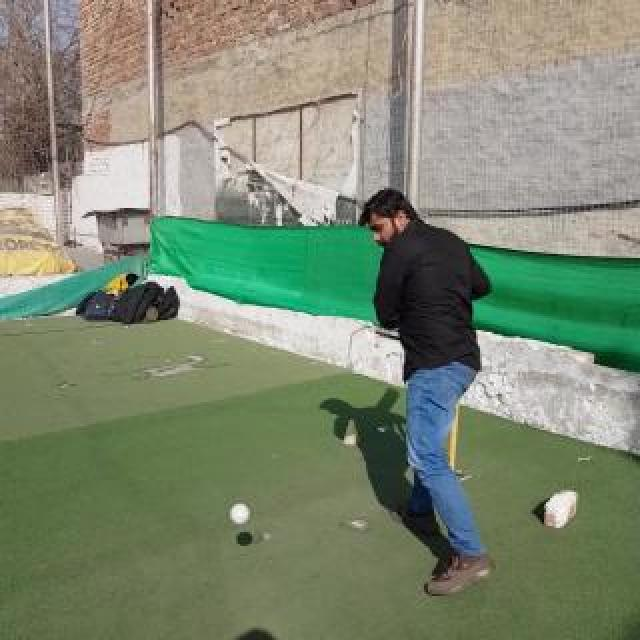ball: (230, 502, 250, 526)
